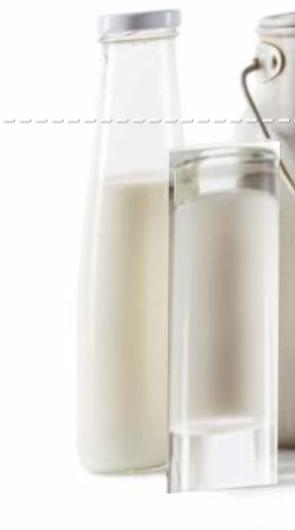produk_susu: (96, 30, 176, 462), (185, 165, 276, 476)
